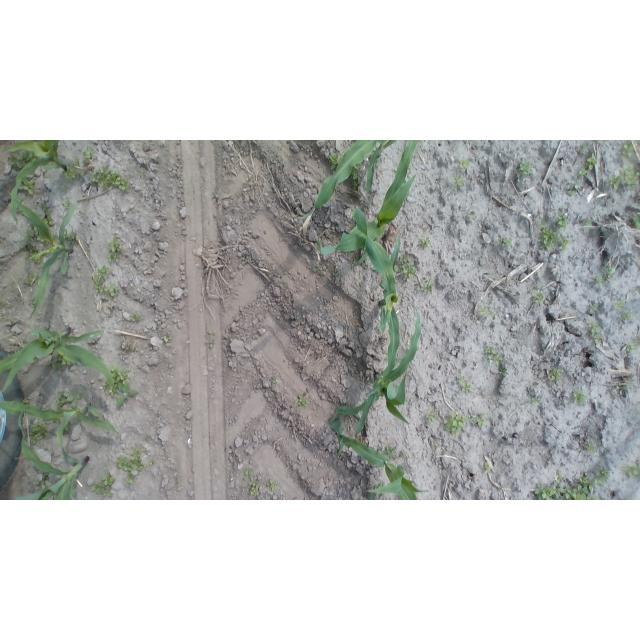Maize: (329, 304, 423, 459), (315, 140, 420, 268), (295, 140, 397, 224), (352, 207, 401, 381), (1, 327, 119, 398), (15, 188, 77, 319), (8, 411, 92, 500), (327, 429, 430, 500), (0, 398, 122, 452), (1, 140, 72, 228)
Weeds: (101, 365, 139, 407), (532, 480, 599, 501), (90, 164, 131, 192), (19, 228, 45, 264), (606, 163, 640, 189), (92, 265, 118, 298), (115, 450, 146, 474), (443, 410, 467, 440), (91, 473, 116, 497), (537, 223, 558, 250), (8, 150, 35, 171), (27, 423, 51, 445), (55, 392, 83, 410), (106, 237, 122, 264), (398, 255, 416, 279), (50, 354, 73, 371), (588, 321, 604, 343), (20, 177, 38, 196), (484, 345, 503, 363), (622, 141, 640, 160), (624, 333, 640, 352), (469, 412, 488, 428), (41, 206, 55, 227), (594, 468, 611, 485), (572, 389, 589, 406), (349, 166, 360, 192), (457, 375, 472, 394), (63, 165, 79, 182), (519, 160, 534, 177), (623, 462, 640, 477), (532, 287, 546, 305), (556, 211, 569, 230), (249, 483, 263, 500), (585, 154, 599, 171), (451, 175, 466, 190), (294, 394, 308, 409), (566, 182, 580, 197), (329, 153, 340, 172), (22, 272, 38, 285), (602, 265, 615, 281), (478, 306, 495, 318), (558, 237, 571, 252), (205, 329, 215, 348), (83, 146, 96, 160), (418, 236, 432, 249), (549, 368, 562, 382), (619, 310, 634, 322), (124, 475, 140, 486), (423, 279, 435, 293), (616, 383, 628, 396), (129, 312, 142, 324), (578, 168, 591, 180), (458, 159, 470, 172), (631, 213, 640, 230), (501, 236, 513, 248), (586, 442, 598, 454), (384, 445, 397, 456), (243, 467, 254, 480), (67, 231, 77, 245), (530, 395, 543, 405), (426, 411, 437, 422), (589, 303, 600, 314), (580, 144, 591, 155), (595, 276, 606, 287), (161, 332, 171, 344), (614, 299, 626, 309), (581, 218, 591, 230), (62, 421, 71, 434), (123, 343, 134, 353), (484, 461, 493, 473), (499, 365, 508, 377), (267, 480, 277, 490), (553, 476, 564, 485), (37, 479, 48, 488), (58, 183, 68, 192), (239, 258, 249, 267), (63, 201, 73, 210), (467, 209, 477, 217), (270, 378, 278, 387), (212, 192, 220, 201), (150, 461, 159, 468), (173, 477, 182, 484), (359, 280, 366, 288), (401, 452, 408, 460), (141, 166, 148, 174), (333, 268, 339, 276)
